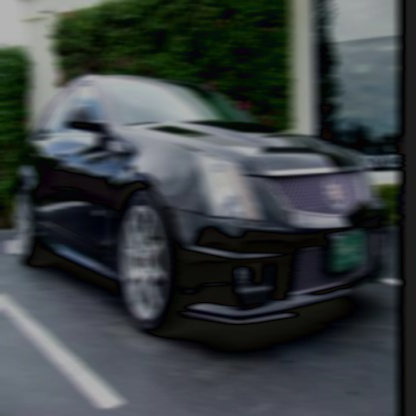Vehicle: (14, 74, 392, 335)
